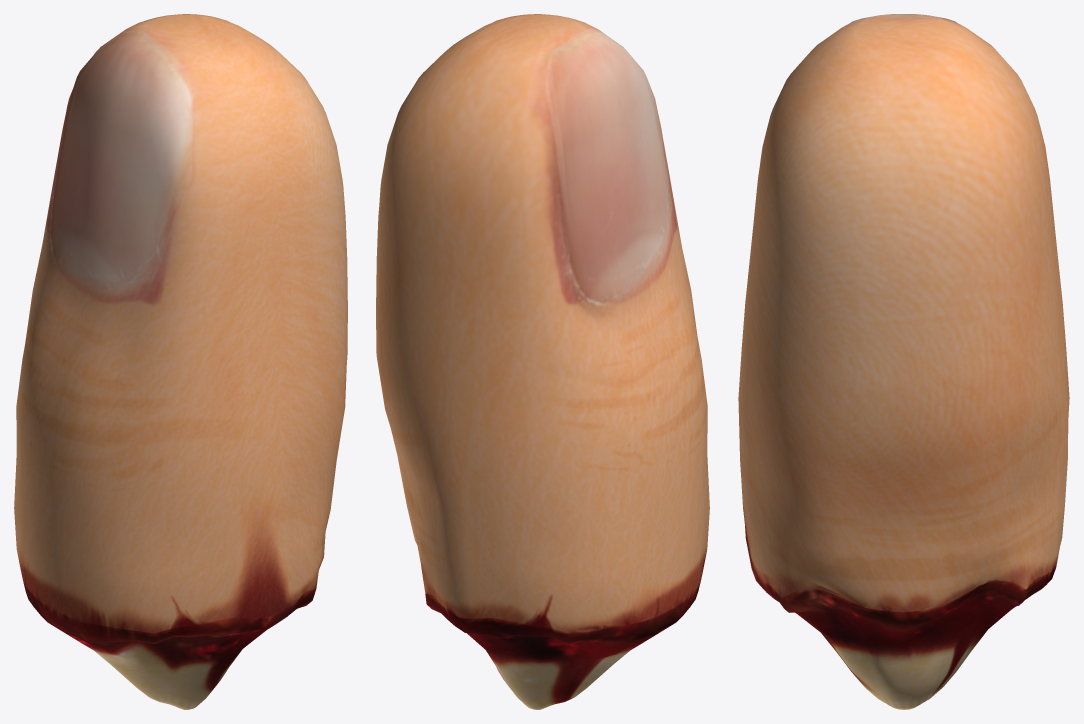
File: DedoAmputado_1.fbx
3 renders of one model, left to right at view 1: azimuth 30°, elevation 25°; view 2: azimuth 150°, elevation 25°; view 3: azimuth 270°, elevation 25°, orthographic.
Parts seen in each view (by area): view 1: Sphere.003; view 2: Sphere.003; view 3: Sphere.003.
Part boxes in pixels (x1,y1,x2,y2): Sphere.003: (14, 14, 347, 709); Sphere.003: (376, 14, 709, 709); Sphere.003: (738, 14, 1069, 709).
Size of the model in its own units: 2.53 by 5.73 by 2.53.
